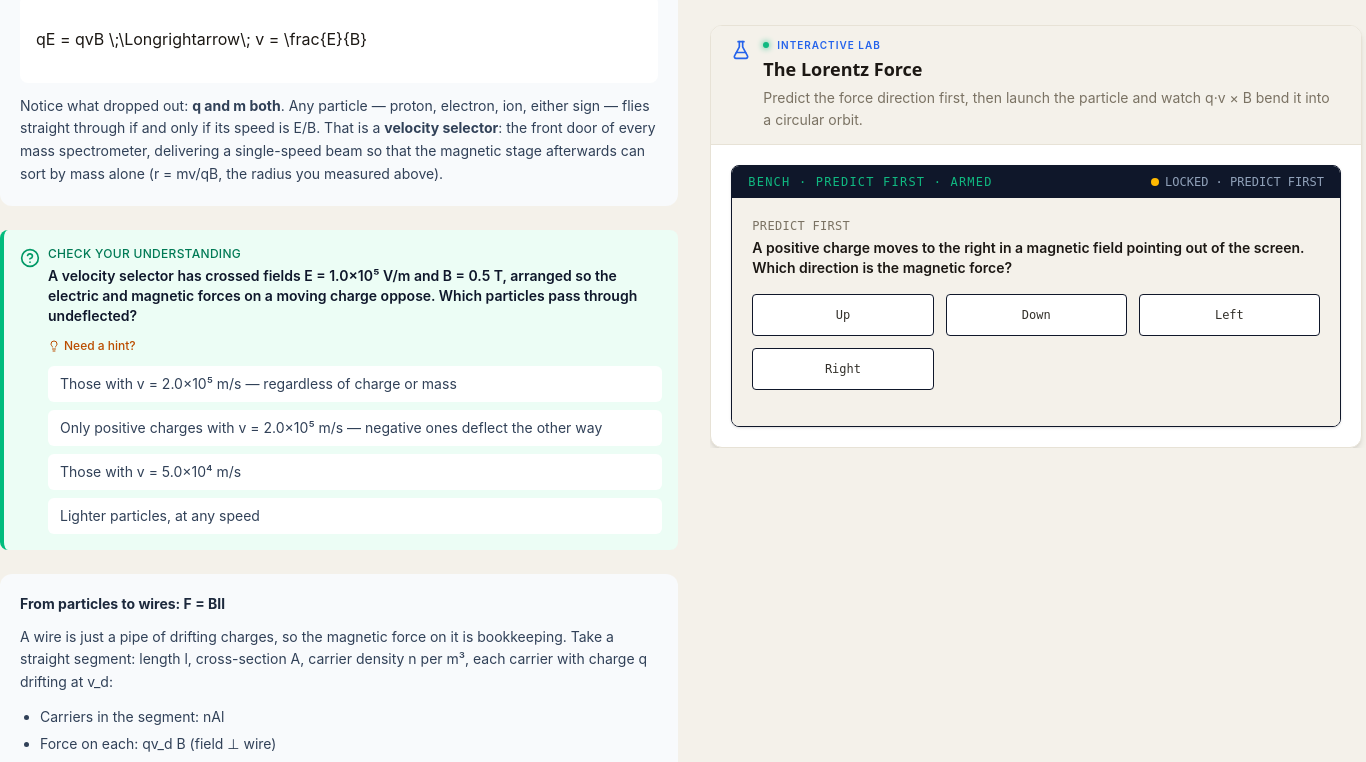
Test case: LorentzSection — complete force & force on conductors (unit 2D) › CC-L: the velocity-selector ConceptCheck reveals its explanation on the correct answer
(page scrolled)
Expected: the text "crossed fields" is shown, left=48, top=267, right=637, bottom=324
Click the button "Those with v = 2.0×10⁵ m/s — regardless of charge or mass": (355, 384) left=48, top=366, right=662, bottom=402
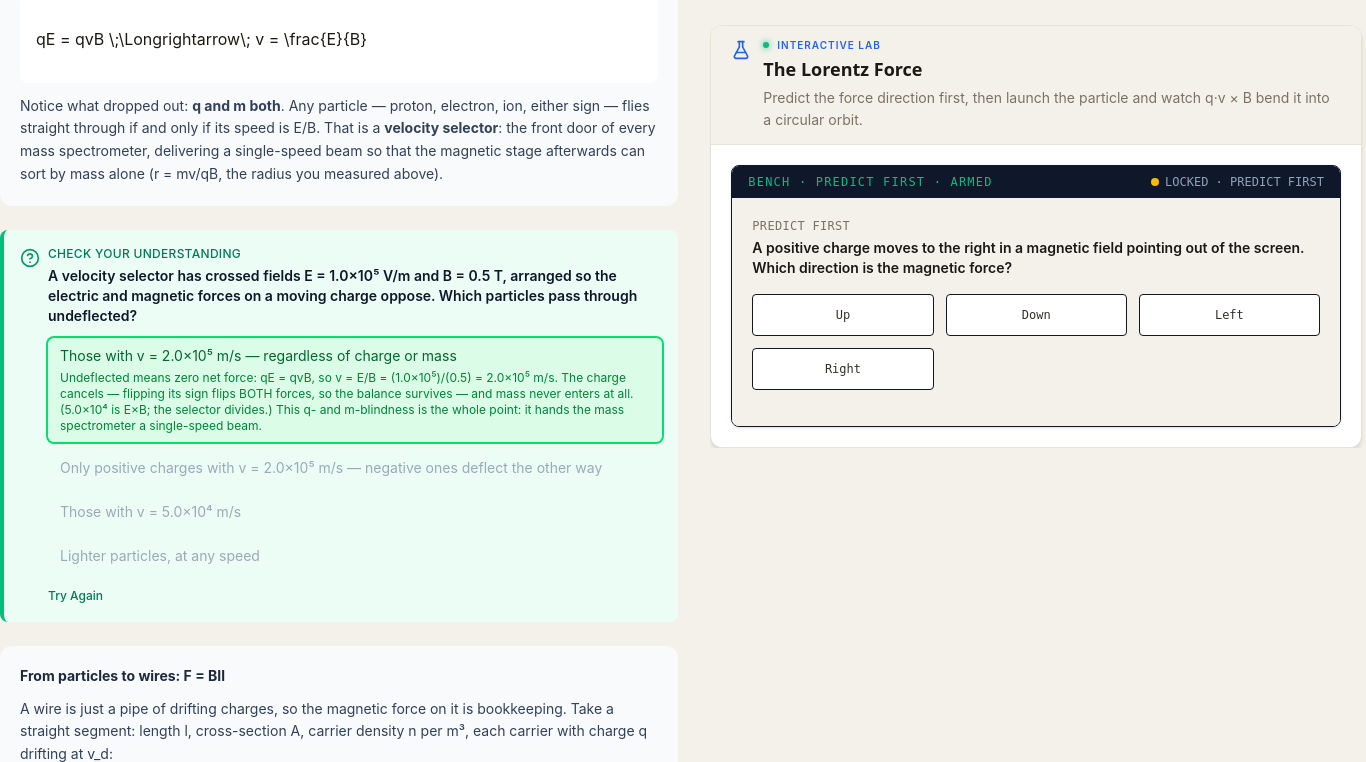
Expected: the text "E/B" is shown, left=20, top=97, right=650, bottom=136
Expected: the text "flipping its sign flips BOTH forces" is shown, left=60, top=370, right=634, bottom=433
